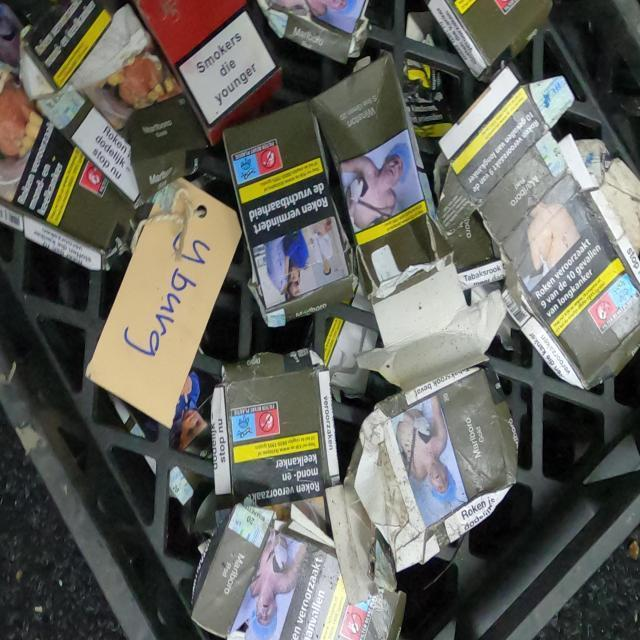Paper: (432, 61, 640, 390), (18, 0, 209, 210), (306, 50, 452, 305), (352, 362, 520, 551), (191, 500, 407, 640), (0, 81, 135, 282), (221, 108, 345, 322), (142, 0, 283, 129), (210, 362, 332, 492), (424, 0, 560, 80), (257, 0, 371, 67)
